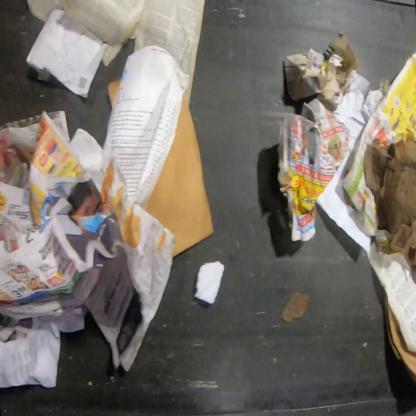cardboard: (146, 90, 216, 258), (362, 139, 415, 285), (385, 291, 415, 378), (107, 80, 121, 110)
